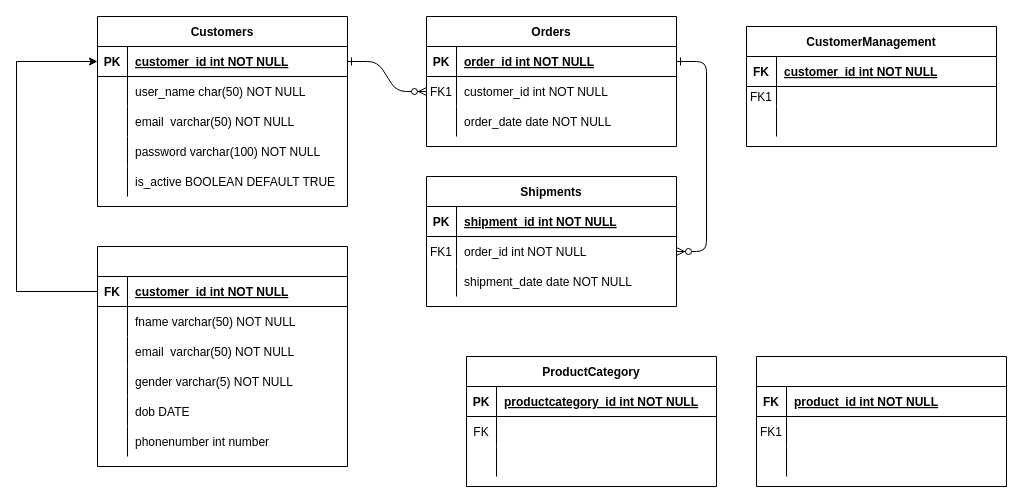
Image size: 1023x503. Some labels were removed from this diagram. The box of each missing label's shape, as (x1, y1, x2, y2) in pixels:
ProductList: (756, 356, 1006, 486)
UserProfile: (96, 246, 348, 466)
